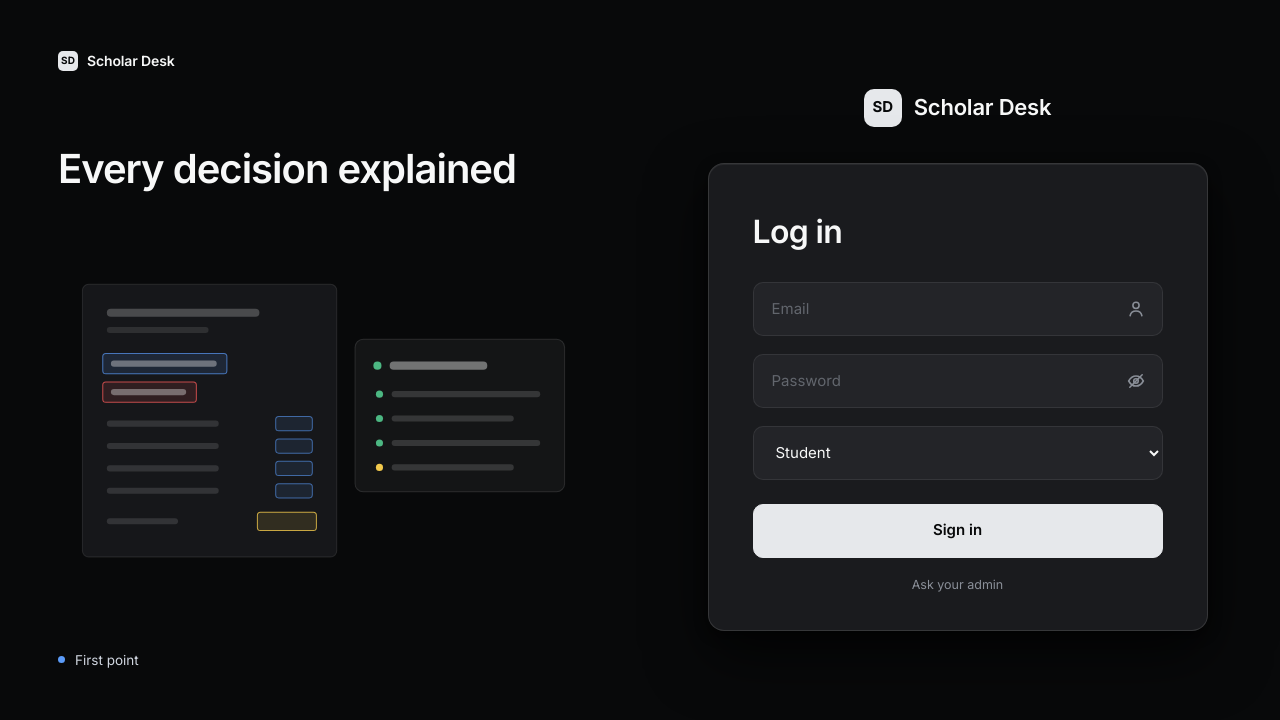
login page › shows the server’s message when the role does not match
Type "verifier@certischolar.local" into the field with placeholder "Email" at (958, 309), box [752,282,1162,336]
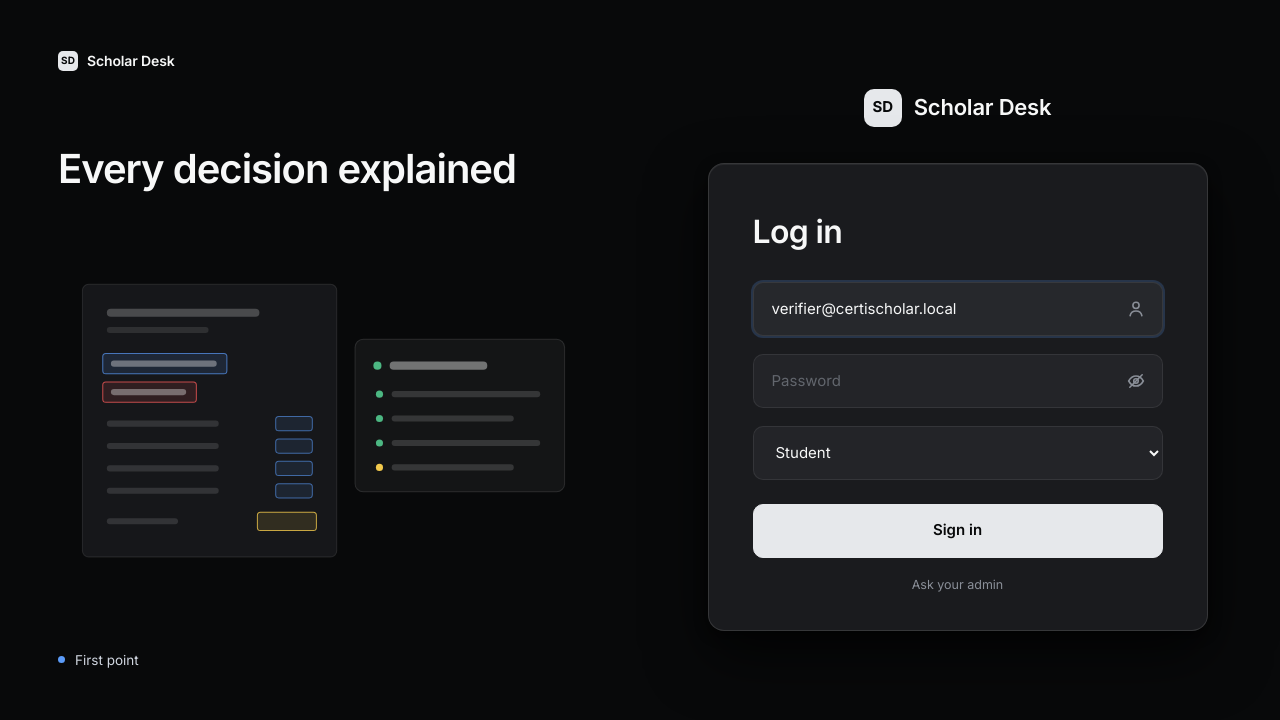
Type "test-password-1" into the password field with placeholder "Password" at (958, 381), box [752,354,1162,408]
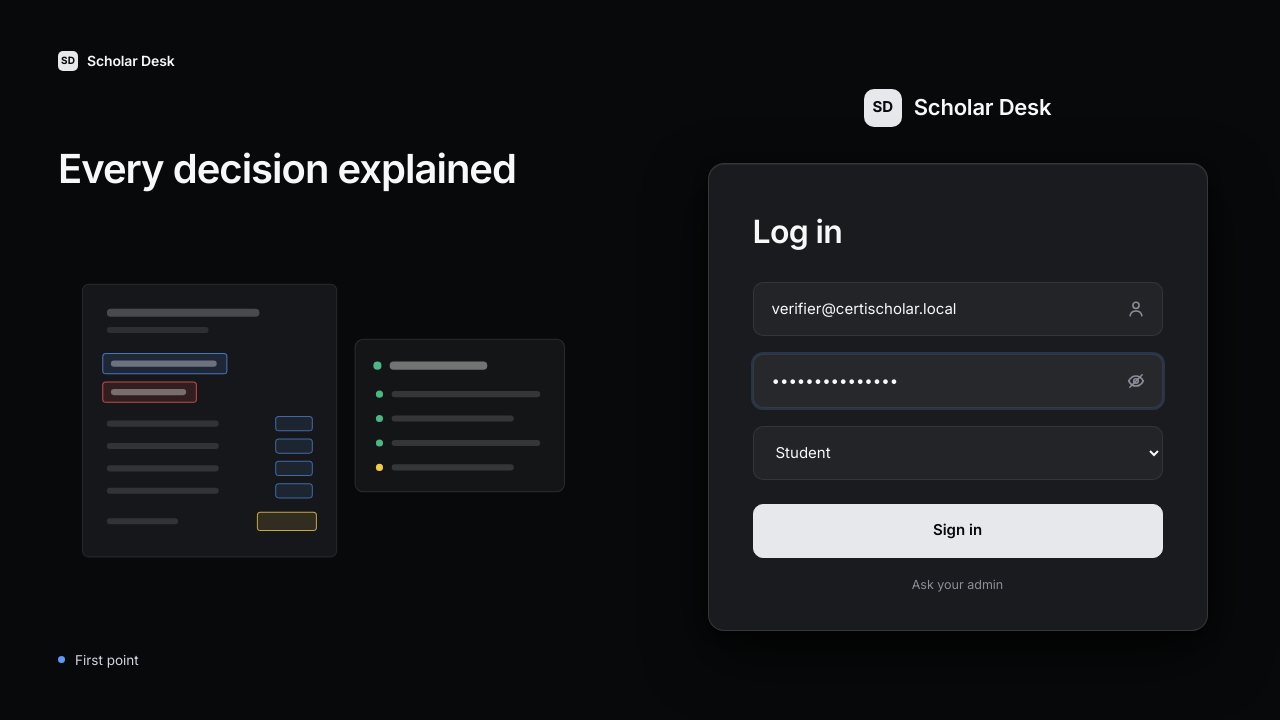
Select "Administrator" in the dropdown named "Sign in as" at (958, 453), box [752,426,1162,480]
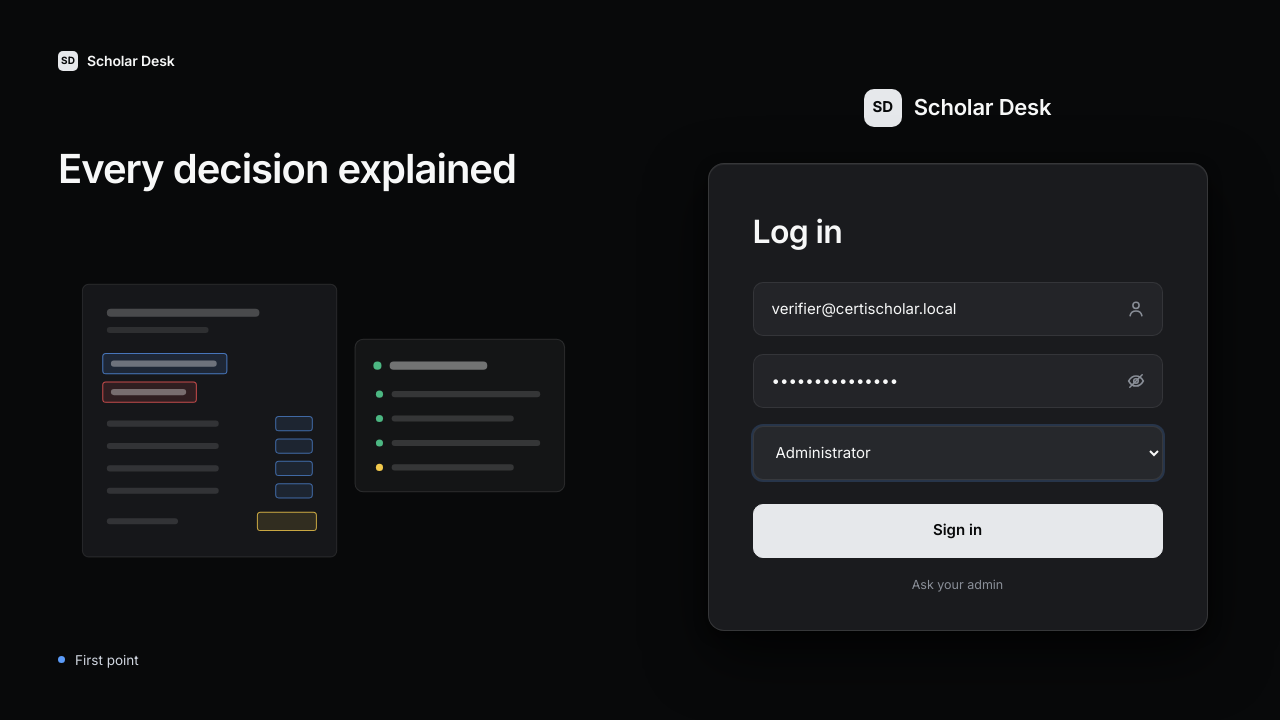
Click the button "Sign in" at (958, 531), box [752,504,1162,558]
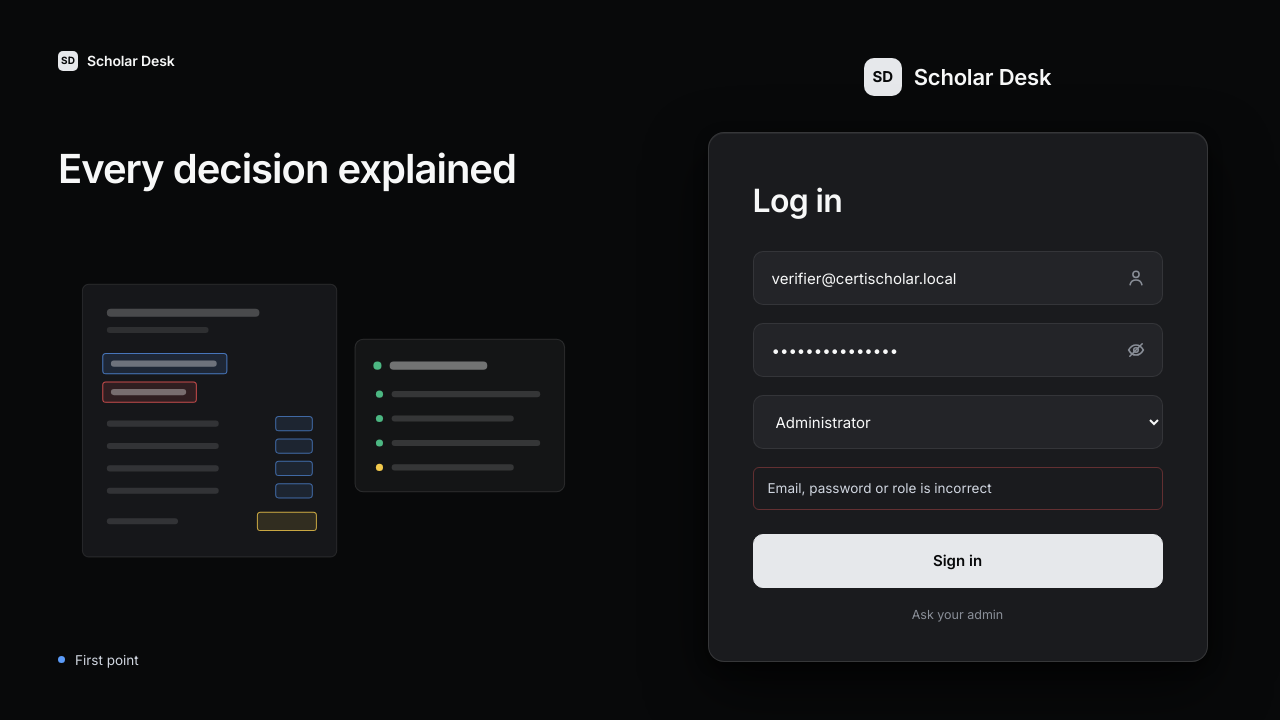
expect the text "Email, password or role is incorrect" is shown: met, box [752,467,1162,510]
